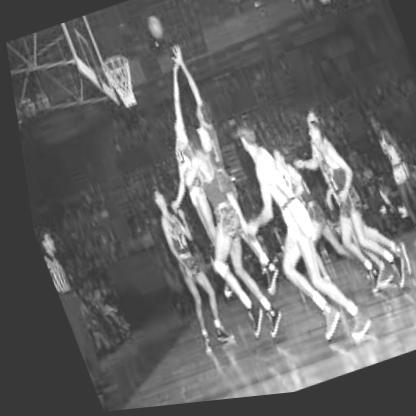basketball: (145, 18, 166, 46)
rim: (98, 52, 131, 79)
